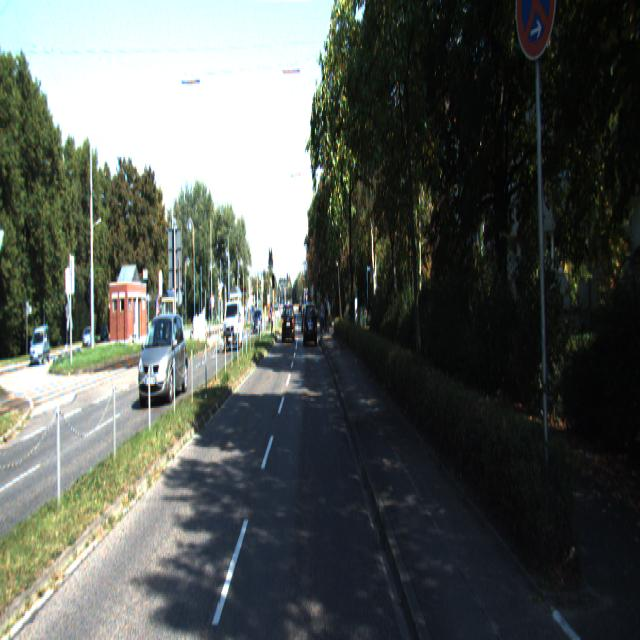Car: (138, 311, 188, 412), (304, 303, 318, 348), (283, 304, 295, 344)
DontCare: (23, 308, 52, 375), (251, 300, 275, 347), (81, 316, 109, 354), (317, 285, 334, 336)
Van: (223, 300, 244, 351)
